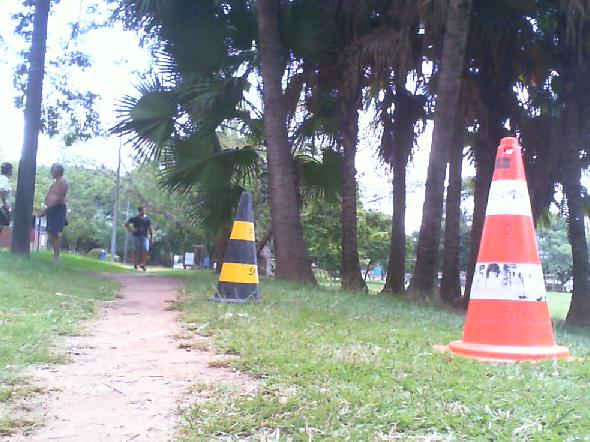0 cone: (431, 138, 588, 362), (205, 191, 262, 303)
